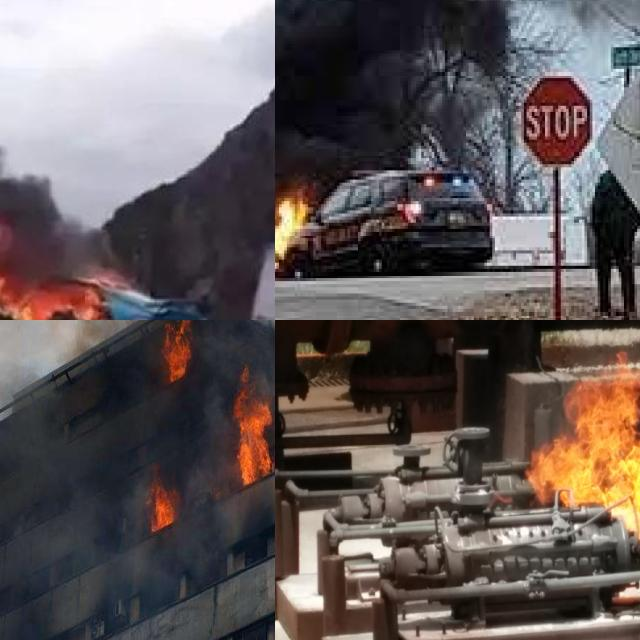fire: (535, 359, 640, 579), (0, 208, 135, 320), (230, 367, 272, 485), (275, 170, 323, 268), (142, 464, 182, 535), (159, 320, 196, 385)
smoke: (275, 0, 608, 198), (0, 384, 227, 640), (0, 0, 83, 232)
